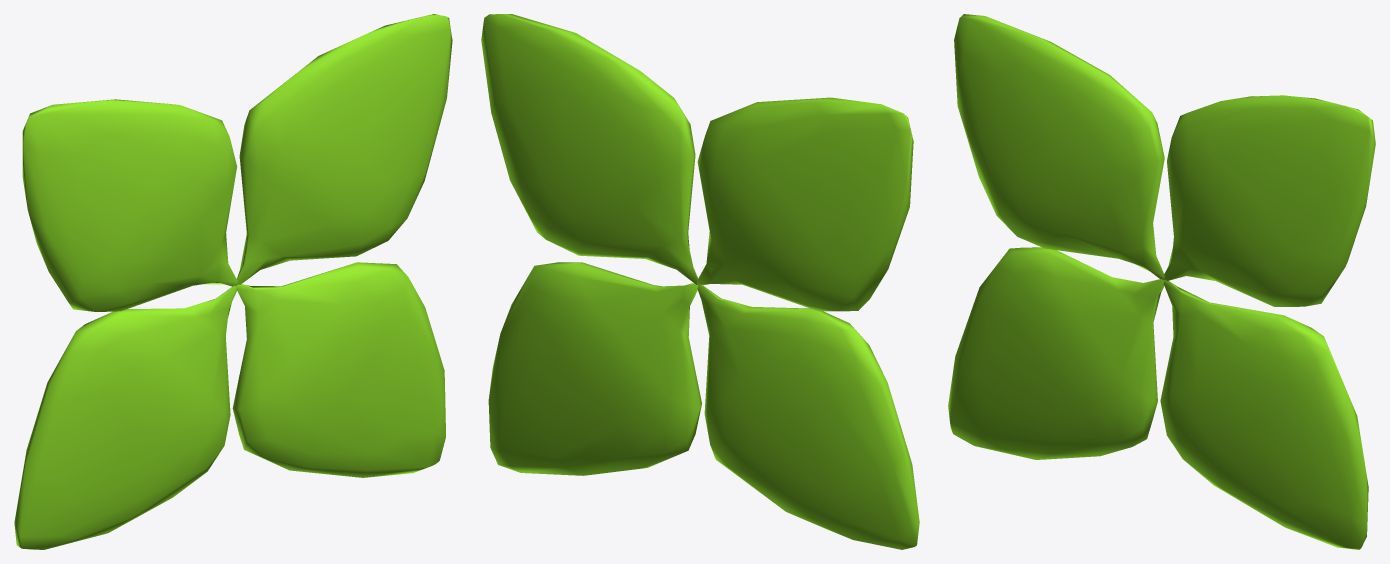
The model's file is bigleafsplant.fbx.
3 views of the same model, side by side, from view 1: azimuth 30°, elevation 25°; view 2: azimuth 150°, elevation 25°; view 3: azimuth 330°, elevation 25° (orthographic). The views are drawn at different scales.
Parts seen in each view (by area): view 1: leaf.005, leaf.003, leaf.004, leaf.002; view 2: leaf.003, leaf.005, leaf.002, leaf.004; view 3: leaf.002, leaf.004, leaf.005, leaf.003.
Boxes of the visible parts, x1,y1,x2,y2 form: leaf.005: [14, 285, 237, 549]; leaf.003: [237, 14, 452, 284]; leaf.004: [232, 262, 445, 477]; leaf.002: [22, 99, 237, 311]; leaf.003: [481, 14, 698, 284]; leaf.005: [697, 284, 919, 549]; leaf.002: [697, 97, 913, 311]; leaf.004: [488, 262, 701, 475]; leaf.002: [954, 14, 1164, 279]; leaf.004: [1160, 279, 1368, 549]; leaf.005: [948, 247, 1164, 459]; leaf.003: [1164, 95, 1375, 306].
Size of the model in its own units: 168 by 168 by 17.47.
